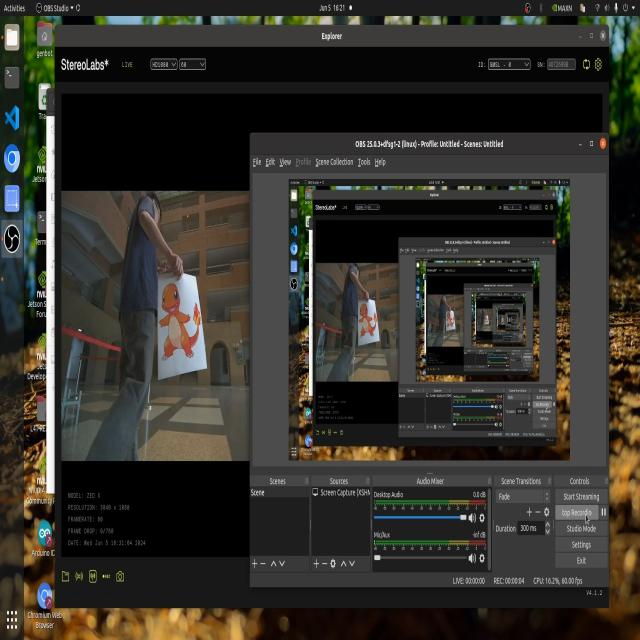red: (159, 281, 206, 377), (358, 301, 382, 352)
